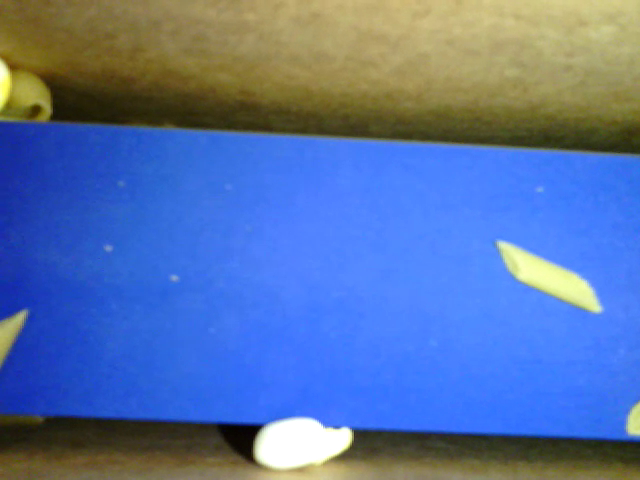penne: (495, 241, 600, 314), (2, 309, 30, 368)
shell: (3, 69, 53, 125)
